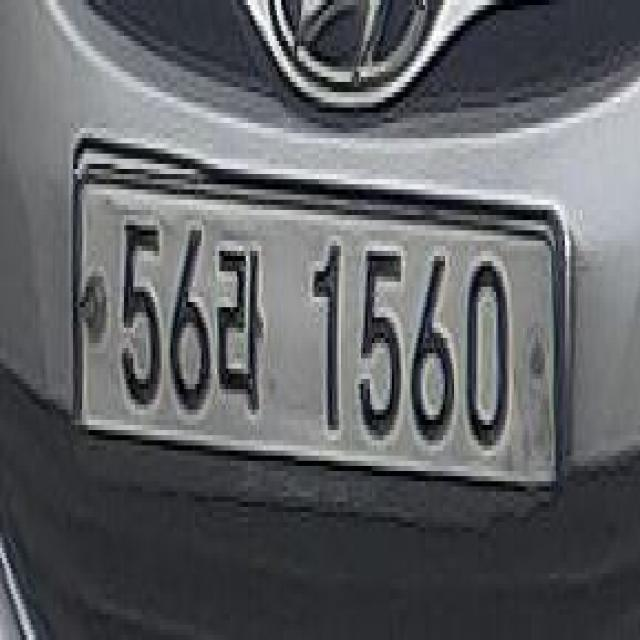0: (460, 241, 518, 456)
1: (307, 224, 348, 442)
5: (354, 238, 404, 441), (114, 212, 164, 412)
6: (407, 240, 457, 443), (166, 212, 212, 416)
la: (216, 220, 266, 420)
license_plate: (58, 112, 581, 531)
